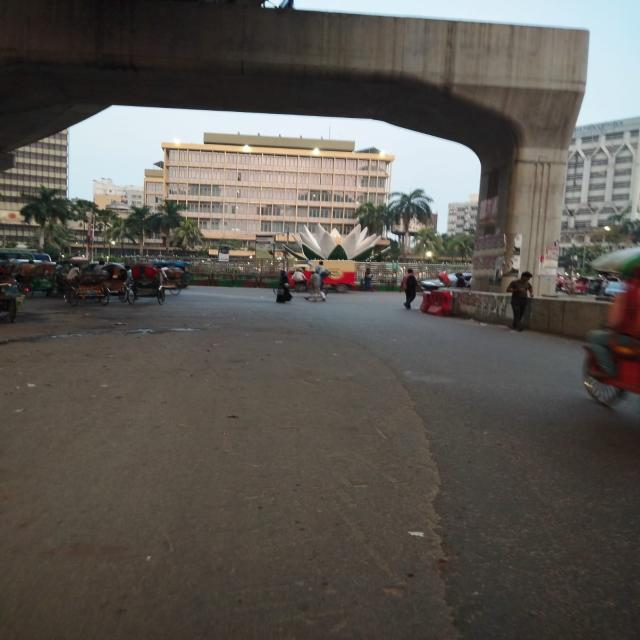person: (303, 268, 326, 302), (276, 268, 292, 304)
